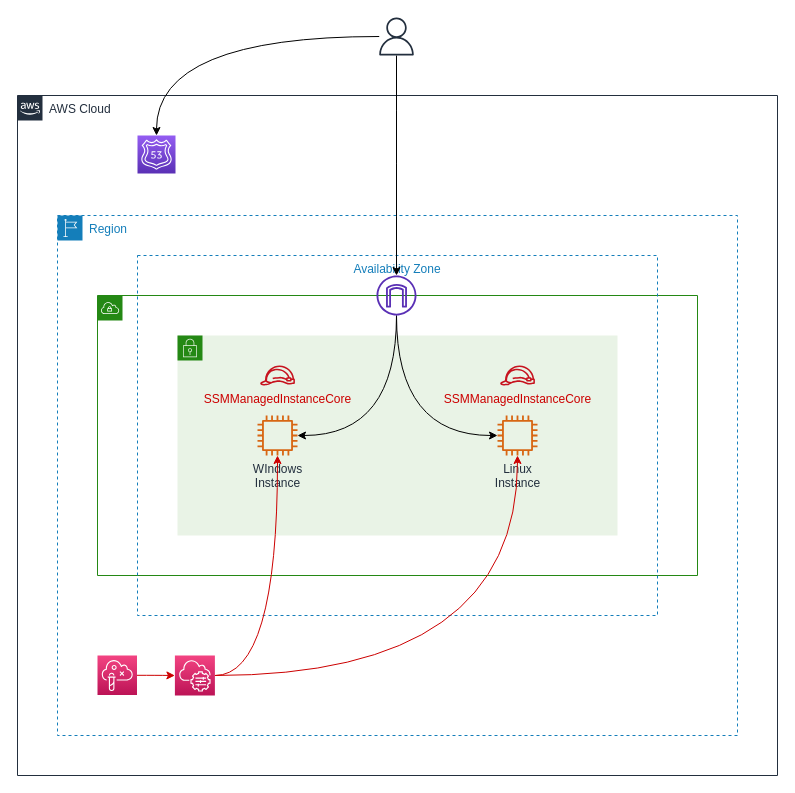
This 795x793 diagram has some shape labels left out. Each missing label, with the box of its shape:
FIS: (96, 654, 137, 695)
Public subnet: (176, 334, 618, 536)
SSM: (174, 654, 215, 696)
VPC: (96, 294, 698, 576)
